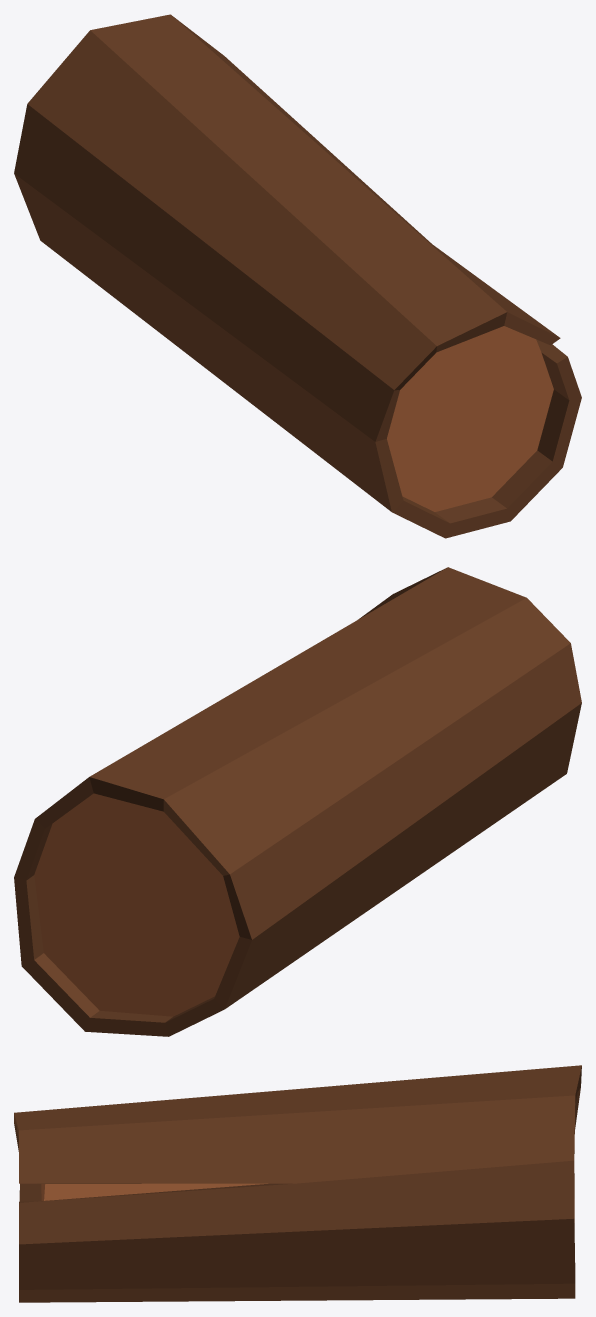
File: woodlog01.gltf
The picture shows the model from 3 angles, top to bottom: view 1: azimuth 30°, elevation 25°; view 2: azimuth 150°, elevation 25°; view 3: azimuth 270°, elevation 25°; orthographic projection. The views are drawn at different scales.
Visible parts, largest first — view 1: Cylinder; view 2: Cylinder; view 3: Cylinder.
Part boxes in pixels (x1,y1,x2,y2): Cylinder: (14, 14, 581, 538); Cylinder: (14, 567, 581, 1036); Cylinder: (14, 1065, 581, 1302).
Size of the model in its own units: 0.2978 by 0.3171 by 0.7807.
1 material, 1 textured.
